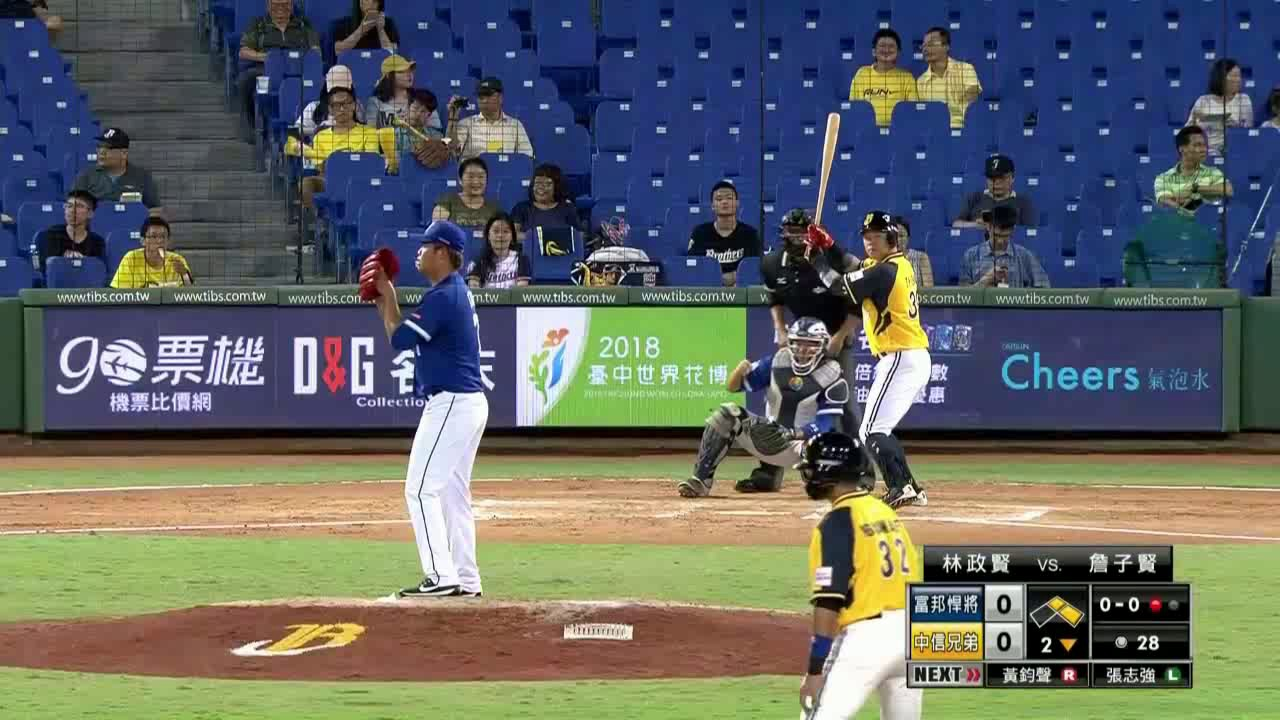base: (1028, 590, 1086, 627)
bat: (809, 109, 843, 235)
out: (1146, 589, 1186, 623)
score1: (987, 587, 1022, 622)
score2: (988, 625, 1022, 658)
session: (1027, 630, 1088, 659)
strikeball: (1095, 589, 1144, 624)
total: (1096, 632, 1186, 658)
